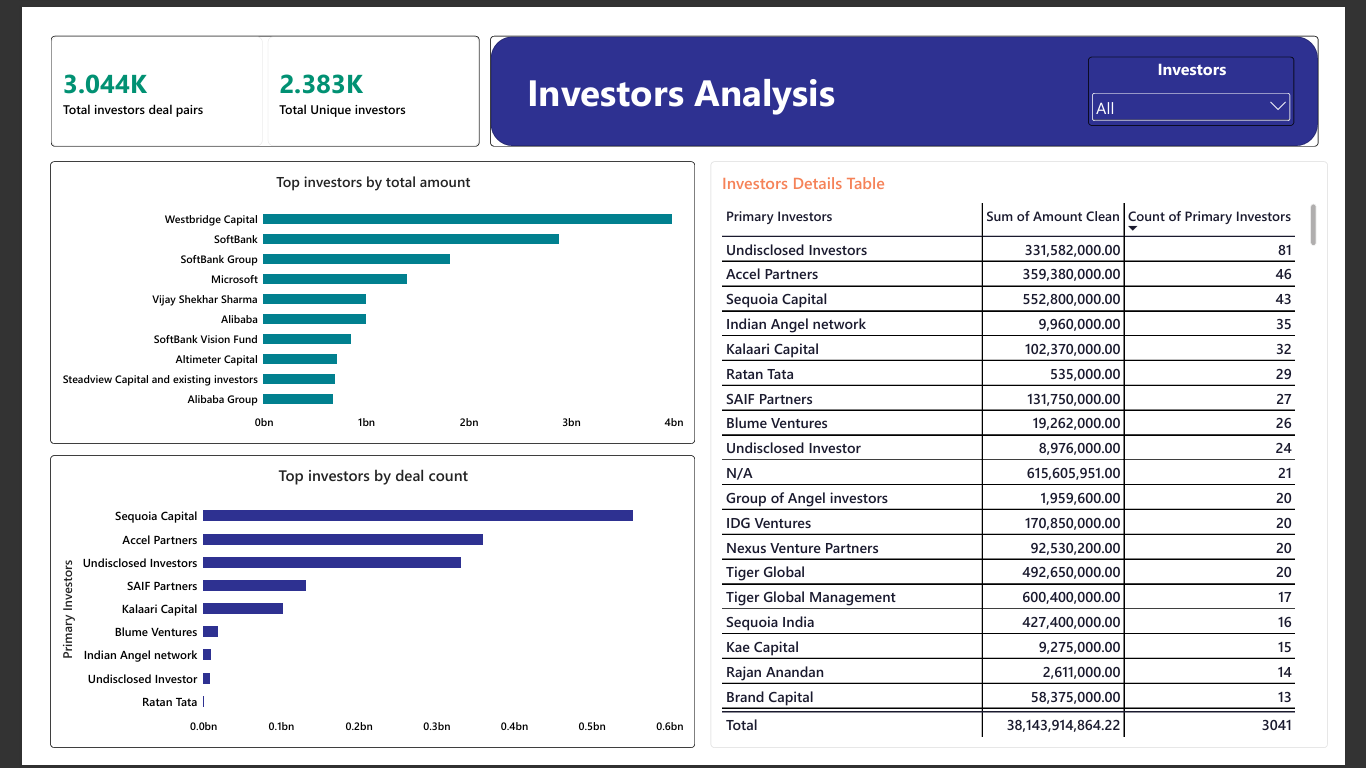

Layout of this report page (visuals, bound fields, positions):
{"tool":"powerbi","page":{"name":"Investors Analysis","canvas":[1920,1080],"ordinal":1},"visuals":[{"type":"clusteredBarChart","title":"Top investors by deal count","fields":{"Y":["Sum(Investors_split.Amount Clean)"],"Category":["Investors_split.Primary Investors"]},"box":[17.7,644.1,960.2,435.9],"z":0},{"type":"clusteredBarChart","title":"Top investors by total amount","fields":{"Y":["Sum(Investors_split.Amount Clean)"],"Category":["Investors_split.Primary Investors"]},"box":[17.7,206.2,960,421.2],"z":1000},{"type":"tableEx","fields":{"Values":["Investors_split.Primary Investors","Sum(Investors_split.Amount Clean)","CountNonNull(Investors_split.Primary Investors)"]},"box":[1001.3,206.5,919,873.8],"z":2000},{"type":"cardVisual","fields":{"Data":["Investors_split.Total investors deal pairs","Investors_split.Total Unique investors"]},"box":[18.6,18.6,609,165.2],"z":2001},{"type":"shape","box":[673,18.6,1232.5,165.2],"z":2002}]}

Visuals, with their boxes in screenshot pixels (x1, y1, x2, y2), scaled from the page's 1920x1080 canvas onto the 1366x768 screenshot:
"Top investors by deal count" clusteredBarChart: (13,458,696,767)
"Top investors by total amount" clusteredBarChart: (13,147,696,446)
tableEx - Investors_split.Primary Investors x Sum(Investors_split.Amount Clean): (712,147,1365,767)
cardVisual - Investors_split.Total investors deal pairs x Investors_split.Total Unique investors: (13,13,447,131)
shape: (479,13,1356,131)
